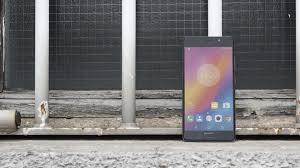lenovo: (182, 31, 239, 145)
